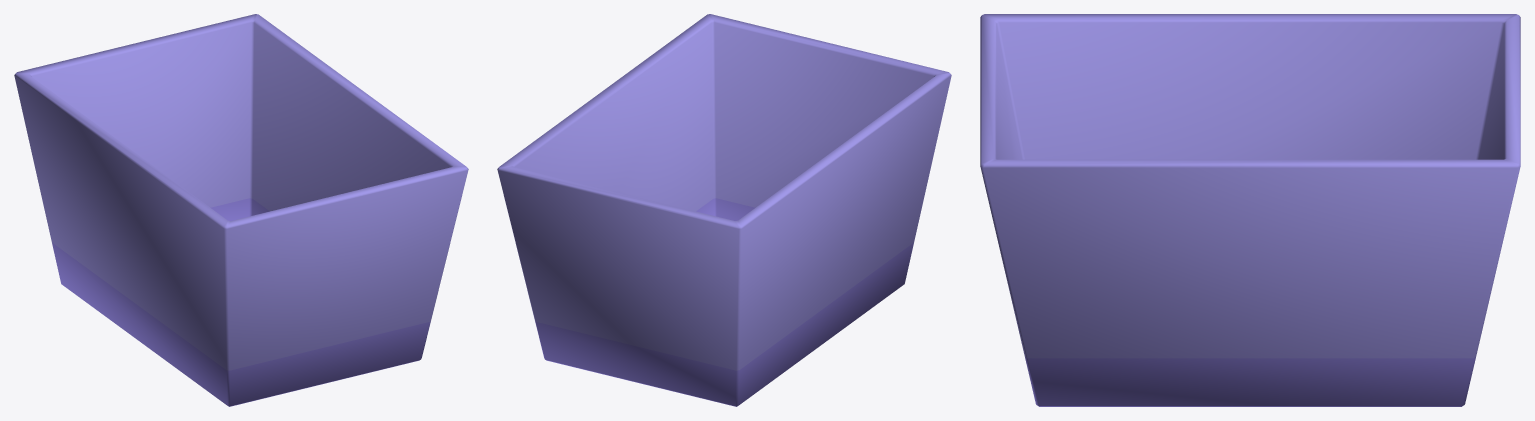
Rendered from container.fbx.
The picture shows the model from 3 angles, left to right: view 1: azimuth 30°, elevation 25°; view 2: azimuth 150°, elevation 25°; view 3: azimuth 270°, elevation 25°; orthographic projection. The views are drawn at different scales.
Visible parts, largest first — view 1: Куб.006; view 2: Куб.006; view 3: Куб.006.
Part boxes in pixels (x1,y1,x2,y2): Куб.006: [14, 14, 468, 406]; Куб.006: [497, 14, 951, 406]; Куб.006: [980, 14, 1520, 406].
Size of the model in its own units: 252 by 200 by 379.
